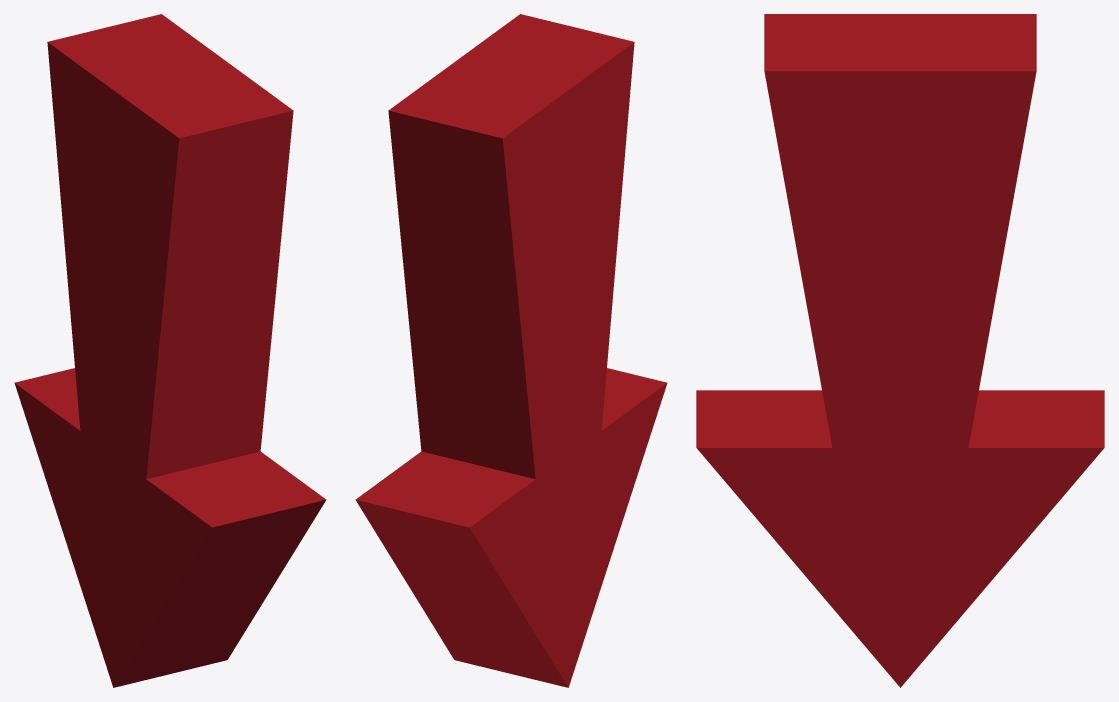
File: fleche_rouge.glb
The picture shows the model from 3 angles, left to right: view 1: azimuth 30°, elevation 25°; view 2: azimuth 150°, elevation 25°; view 3: azimuth 270°, elevation 25°; orthographic projection. The views are drawn at different scales.
Parts seen in each view (by area): view 1: Cube.002; view 2: Cube.002; view 3: Cube.002.
Part boxes in pixels (box(x1,y1,x2,y2)): Cube.002: box(14, 14, 326, 687); Cube.002: box(355, 14, 667, 687); Cube.002: box(696, 14, 1104, 687).
Bounding box in the file's own units: 1.72 × 8.62 × 5.17.
Materials: 1 (1 with a texture image).
